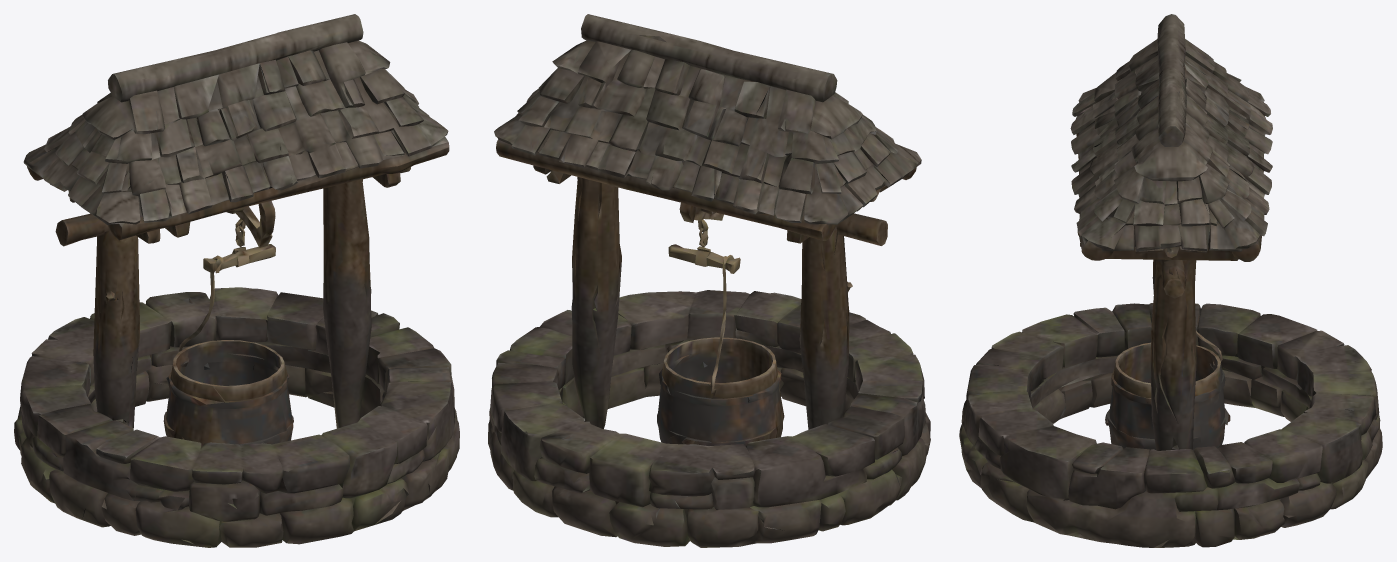
The model's file is well.glb.
3 views of the same model, side by side, from view 1: azimuth 30°, elevation 25°; view 2: azimuth 150°, elevation 25°; view 3: azimuth 270°, elevation 25° (orthographic). The views are drawn at different scales.
Parts seen in each view (by area): view 1: well; view 2: well; view 3: well.
Boxes of the visible parts, left/top/right/bottom form: well: left=14, top=14, right=459, bottom=547; well: left=488, top=14, right=930, bottom=547; well: left=959, top=14, right=1382, bottom=547.
Bounding box in the file's own units: 2.24 × 2.3 × 2.25.
1 material, 1 textured.
